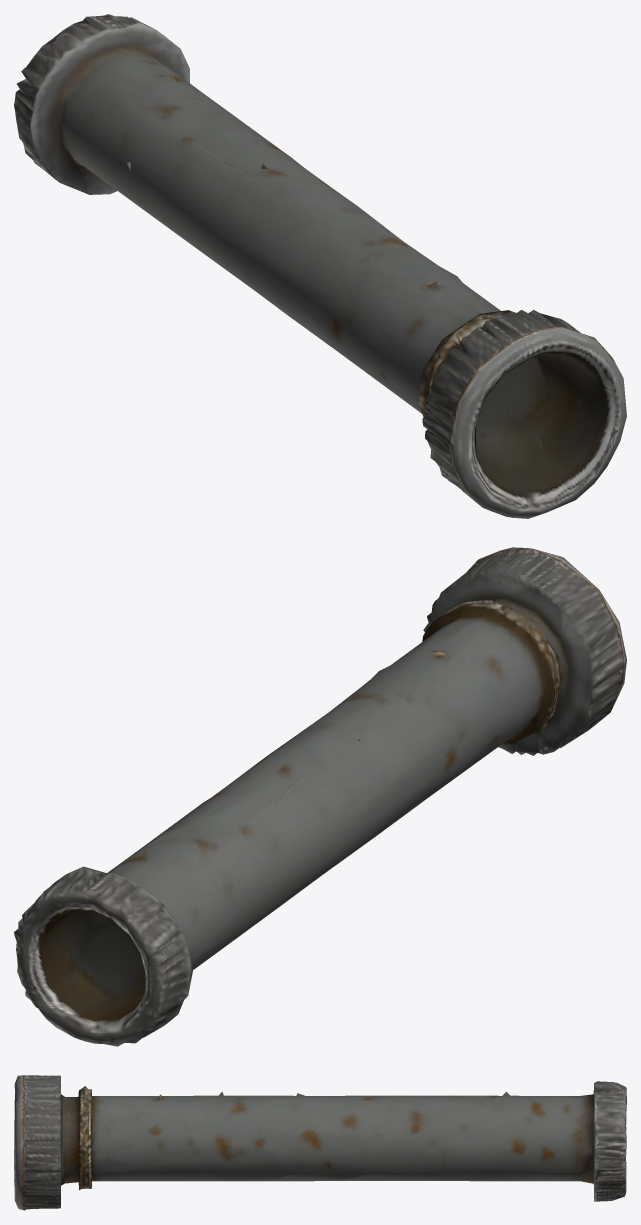
Rendered from metal_pipe.59711eaf77.glb.
3 renders of one model, top to bottom at view 1: azimuth 30°, elevation 25°; view 2: azimuth 150°, elevation 25°; view 3: azimuth 270°, elevation 25°, orthographic. The views are drawn at different scales.
Visible parts, largest first — view 1: metal_pipe; view 2: metal_pipe; view 3: metal_pipe.
Boxes of the visible parts, left/top/right/bottom form: metal_pipe: left=14, top=14, right=626, bottom=518; metal_pipe: left=14, top=547, right=626, bottom=1046; metal_pipe: left=14, top=1075, right=626, bottom=1210.
Size of the model in its own units: 0.0777 by 0.0785 by 0.35.
1 material, 1 textured.
